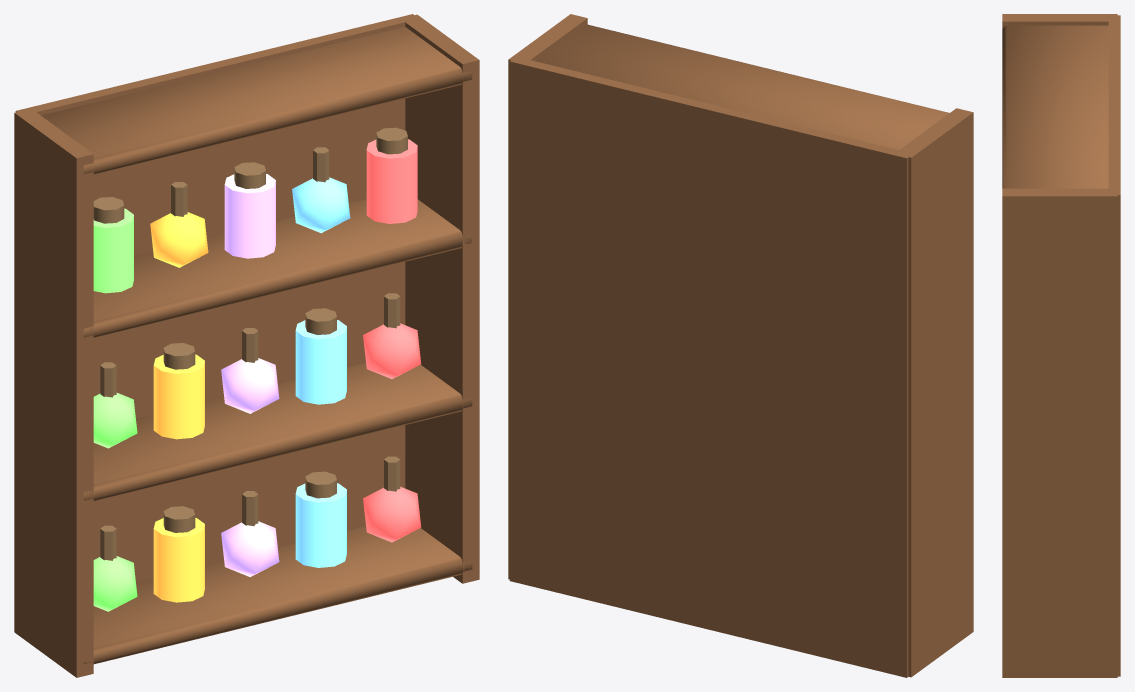
File: v_furn_potion_shelf.glb
The picture shows the model from 3 angles, left to right: view 1: azimuth 30°, elevation 25°; view 2: azimuth 150°, elevation 25°; view 3: azimuth 270°, elevation 25°; orthographic projection. The views are drawn at different scales.
Visible parts, largest first — view 1: PotionShelf; view 2: PotionShelf; view 3: PotionShelf.
Boxes of the visible parts, box(x1,y1,x2,y2) form: PotionShelf: box(14, 14, 479, 677); PotionShelf: box(508, 14, 973, 677); PotionShelf: box(1002, 14, 1120, 677).
Size of the model in its own units: 1.42 by 1.75 by 0.39.
